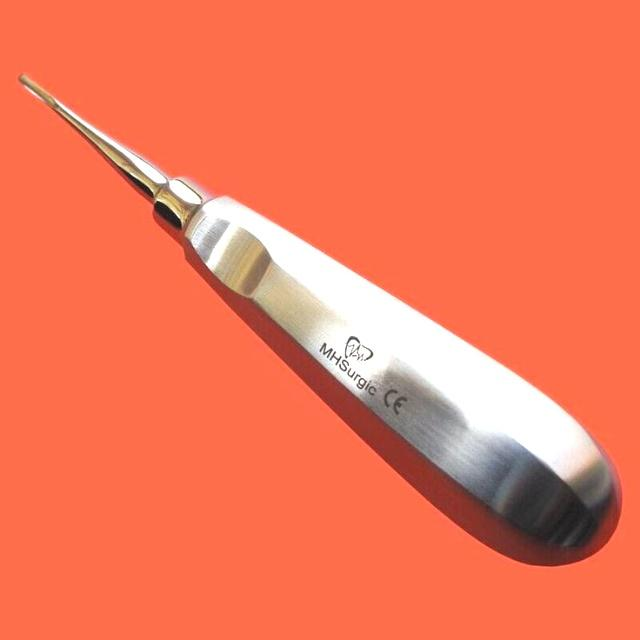botador: (17, 75, 624, 568)
